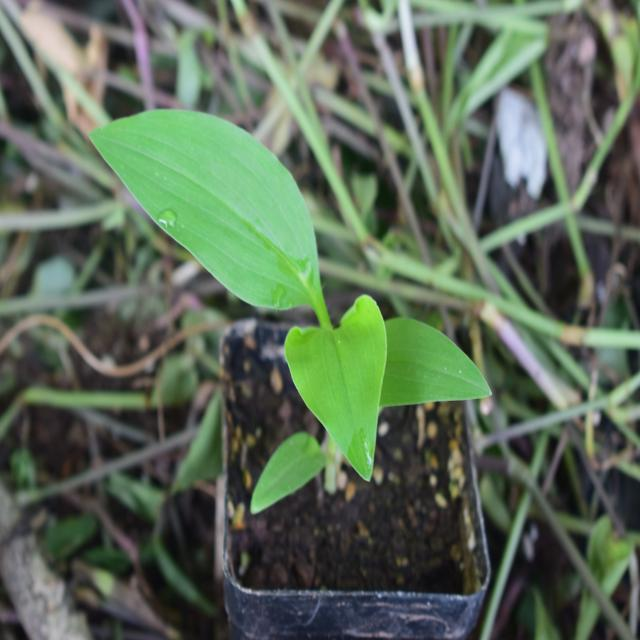Common Dayflower: (92, 84, 503, 502)
